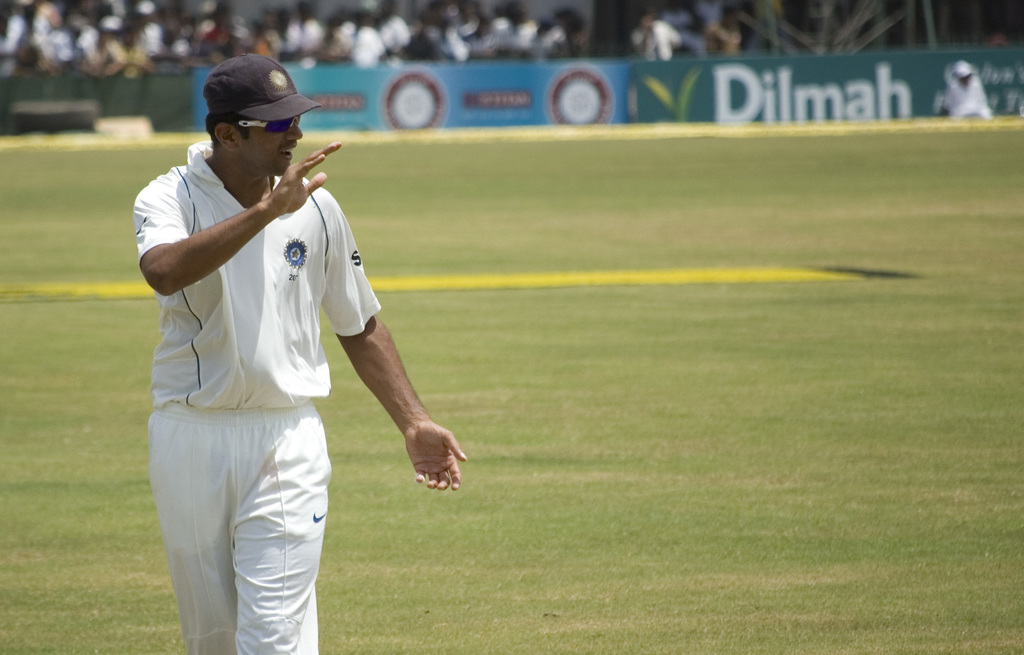Person: (131, 51, 468, 655)
